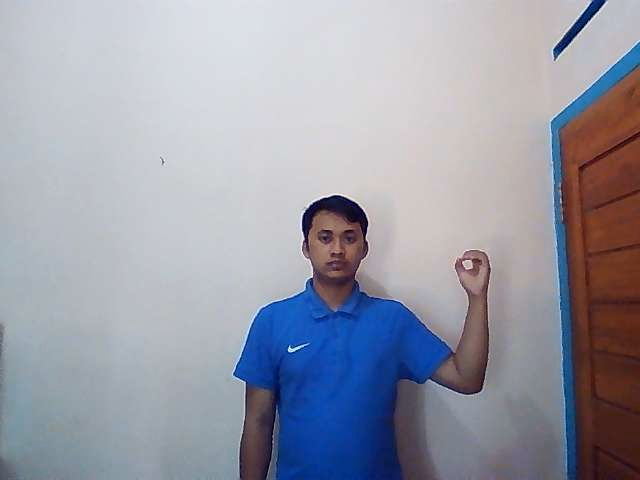O: (455, 249, 492, 294)
